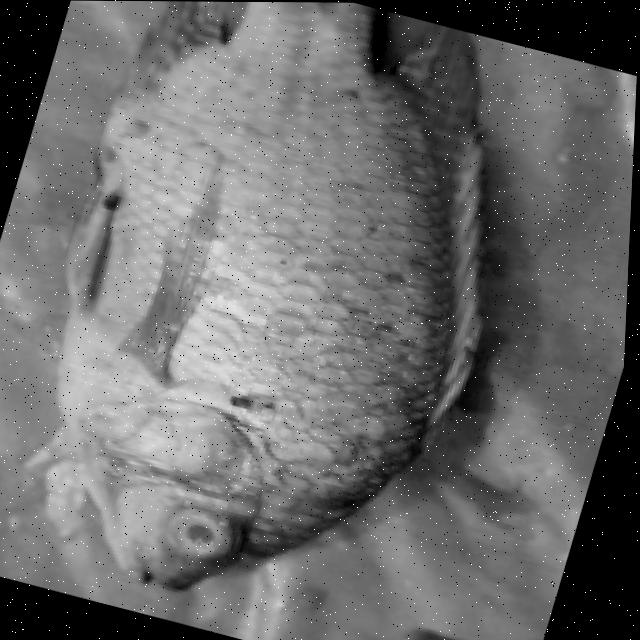Non-Fresh: (15, 7, 511, 556), (155, 481, 252, 575)
